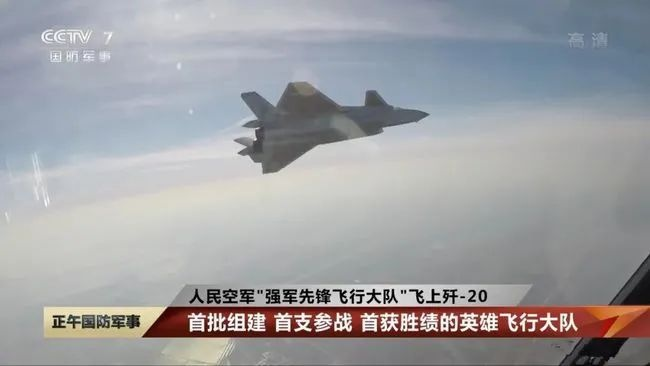J20: (232, 80, 432, 175)
